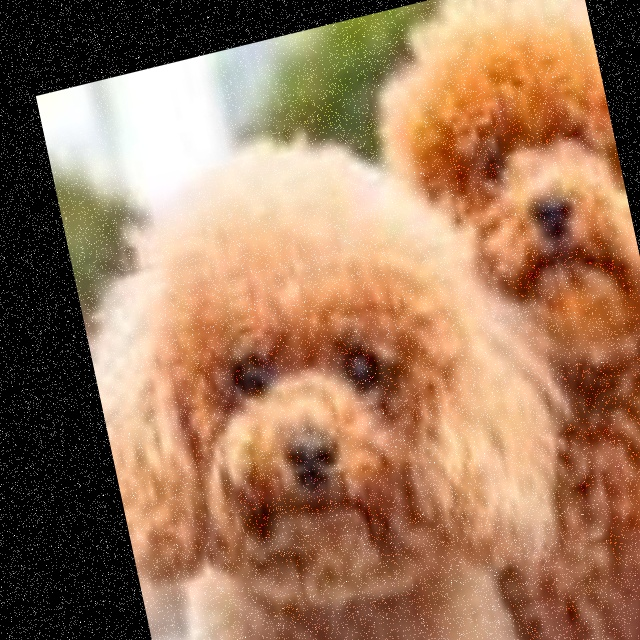dog: (62, 115, 508, 636)
